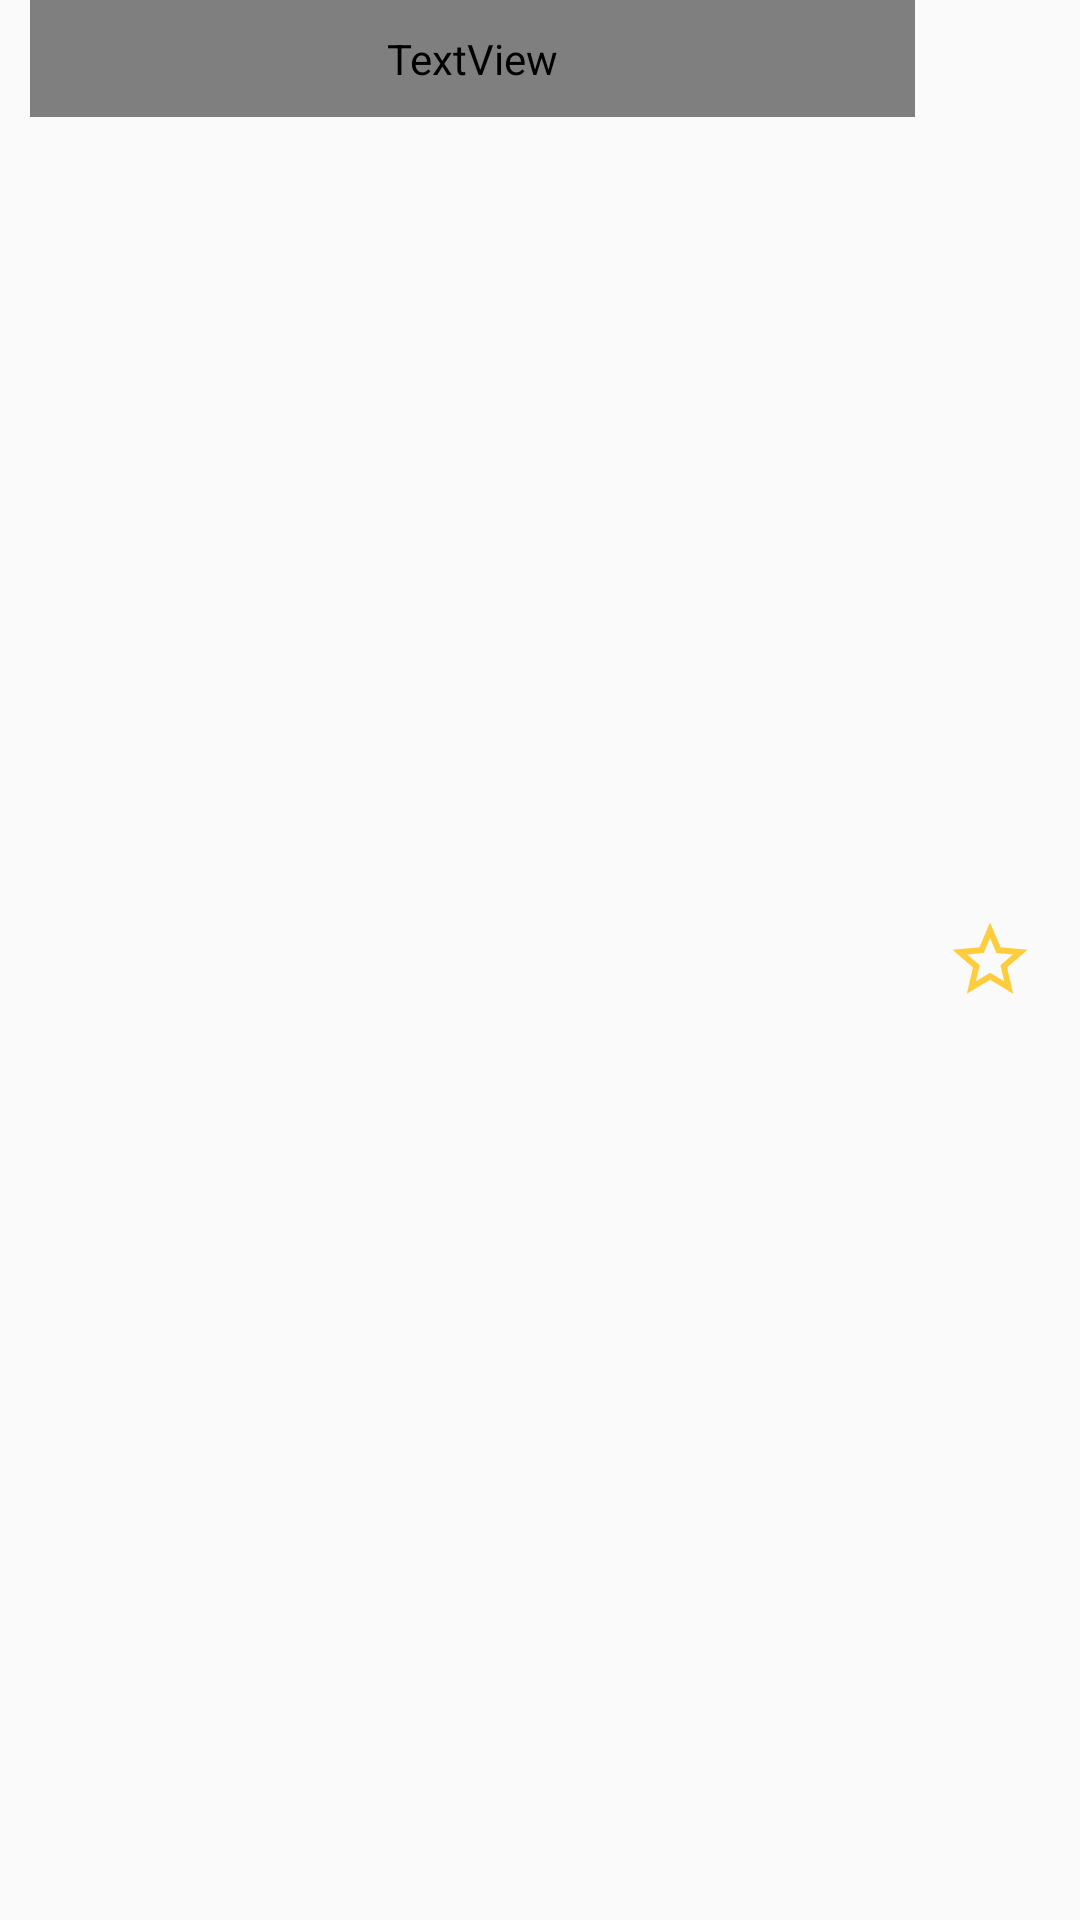

Named icons in this screenshot (1080px×1920px) and their bounding boxes, (x1, y1, x2, y2):
empty star: (953, 923, 1027, 994)
